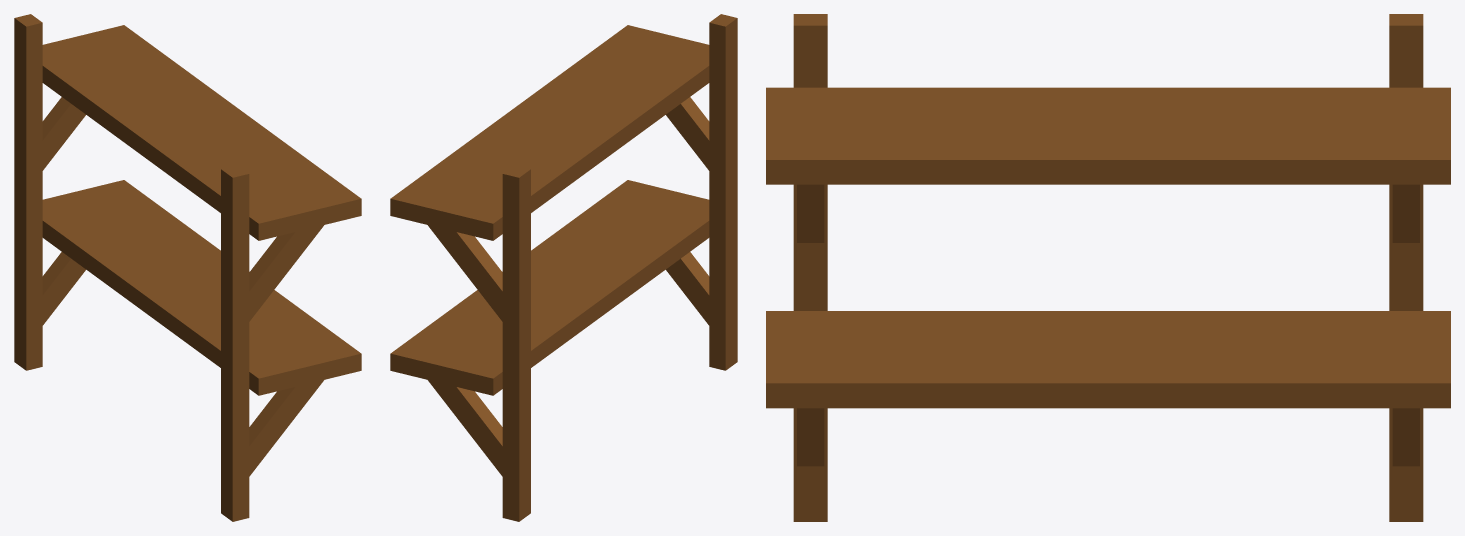
Rendered from WallShelf.fbx.
The picture shows the model from 3 angles, left to right: view 1: azimuth 30°, elevation 25°; view 2: azimuth 150°, elevation 25°; view 3: azimuth 270°, elevation 25°; orthographic projection. The views are drawn at different scales.
Visible parts, largest first — view 1: WallShelf.001; view 2: WallShelf.001; view 3: WallShelf.001.
Boxes of the visible parts, x1,y1,x2,y2 form: WallShelf.001: [14, 14, 361, 521]; WallShelf.001: [390, 14, 737, 521]; WallShelf.001: [766, 14, 1450, 521].
Size of the model in its own units: 0.29 by 0.8 by 1.
